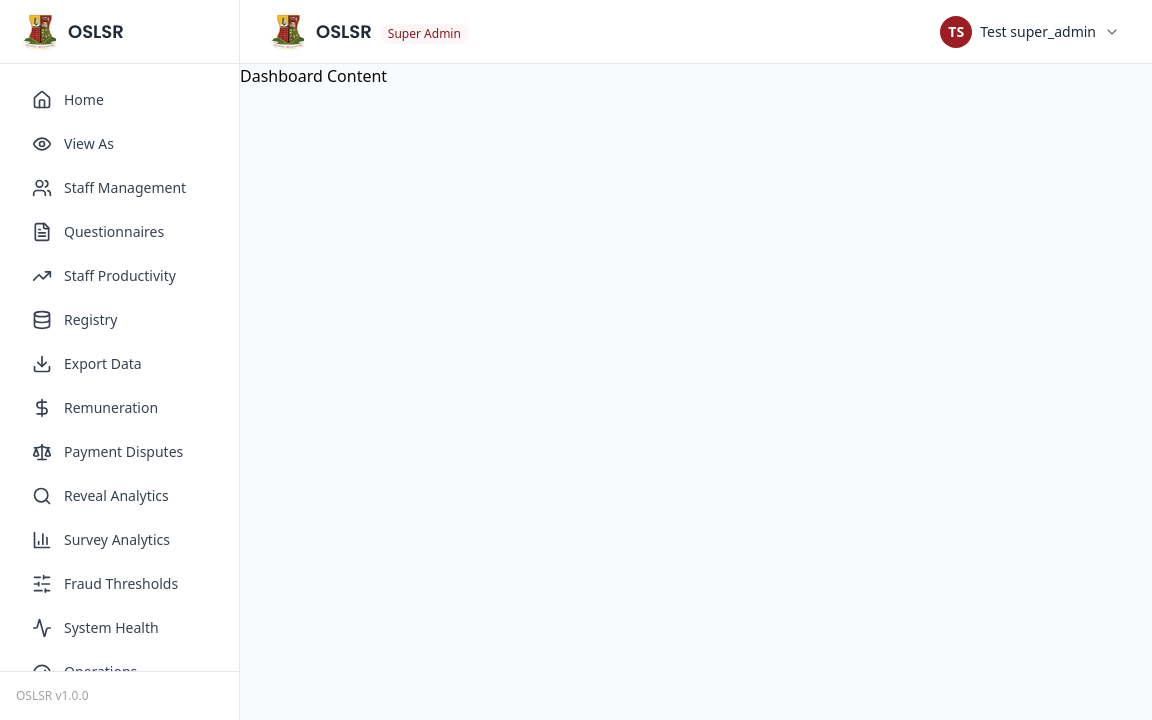
Test: ProfileDropdown › AC6: Profile dropdown with logout functionality › opens dropdown on click and shows profile/logout options
This screenshot has width=1152, height=720.
Step 1. Click the button with aria-label "user menu" → [1030, 32], box [932,10,1128,54]
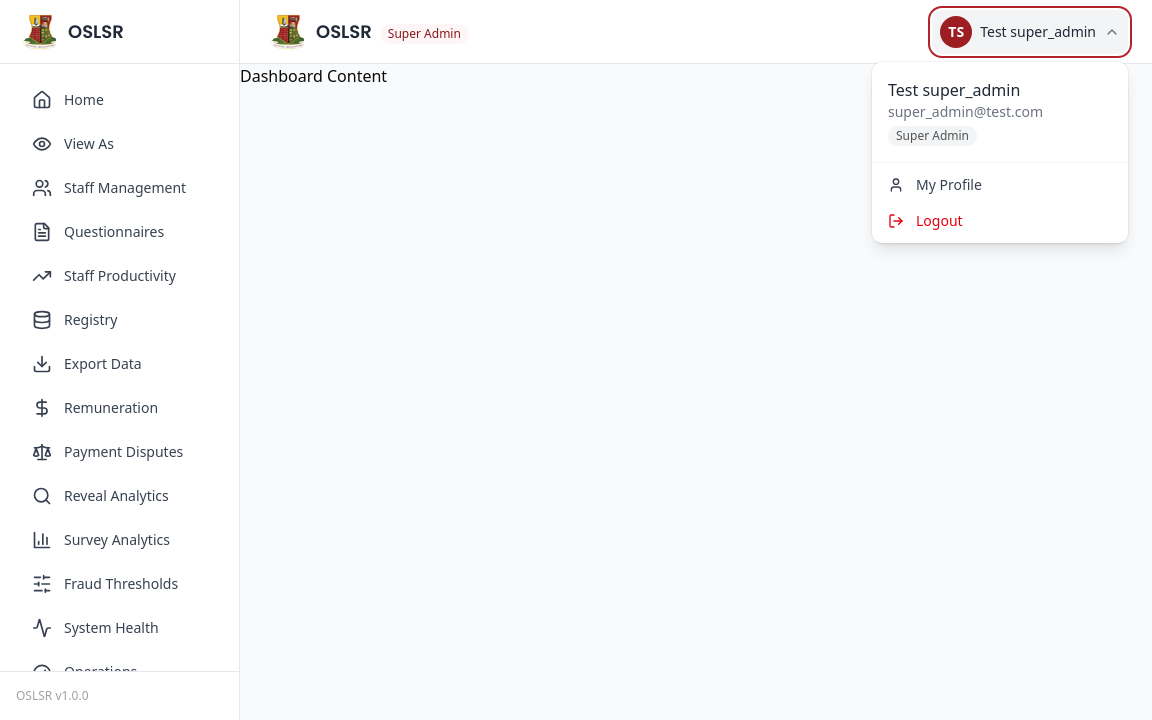
Check: the menu item "My Profile" is shown, box [888,174,982,194]
Check: the menu item "Logout" is shown, box [876,202,1124,238]
